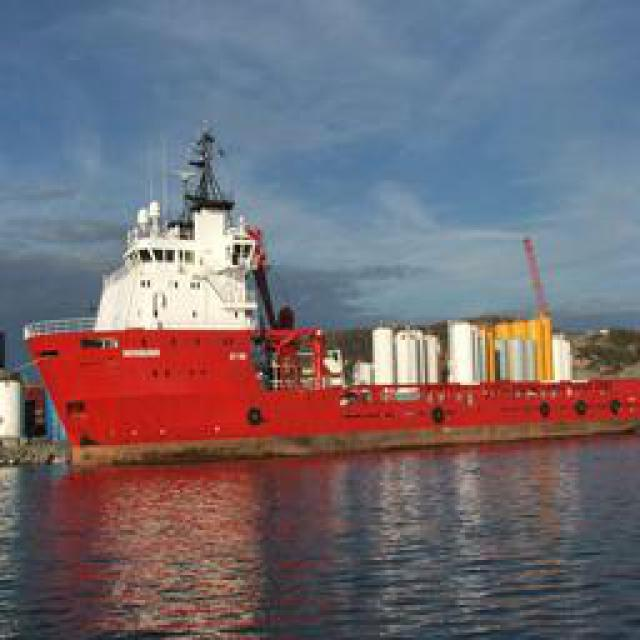Ship: (22, 121, 640, 475)
